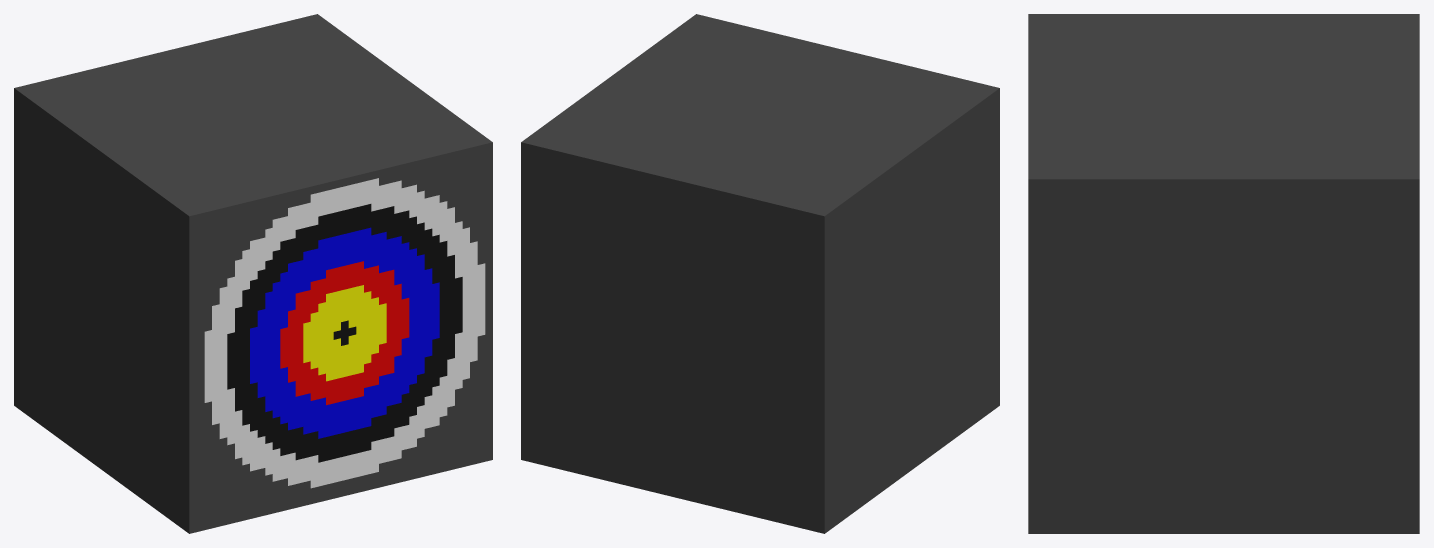
The model's file is target.obj.
3 renders of one model, left to right at view 1: azimuth 30°, elevation 25°; view 2: azimuth 150°, elevation 25°; view 3: azimuth 270°, elevation 25°, orthographic. The views are drawn at different scales.
Bounding box in the file's own units: 4 × 4 × 4.
1 material, 1 textured.
